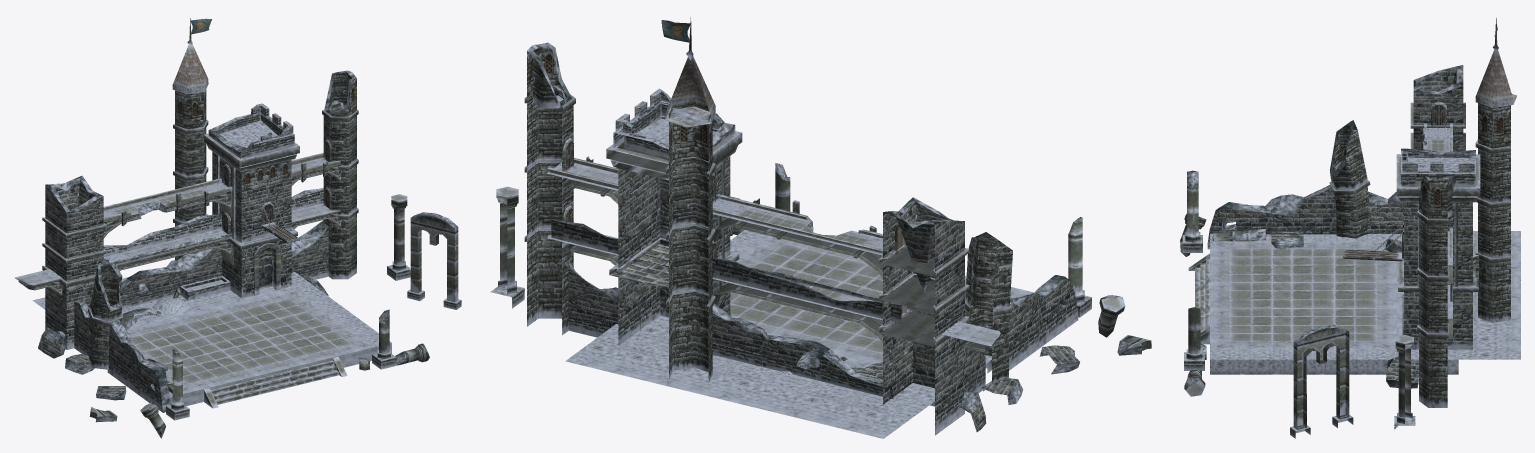
The model's file is SC_bingfengyiji_10.FBX.
The picture shows the model from 3 angles, left to right: view 1: azimuth 30°, elevation 25°; view 2: azimuth 150°, elevation 25°; view 3: azimuth 270°, elevation 25°; orthographic projection. The views are drawn at different scales.
Visible parts, largest first — view 1: SC_bingfengyiji_10; view 2: SC_bingfengyiji_10; view 3: SC_bingfengyiji_10.
Boxes of the visible parts, box(x1,y1,x2,y2) form: SC_bingfengyiji_10: box(15, 18, 461, 438); SC_bingfengyiji_10: box(490, 17, 1151, 438); SC_bingfengyiji_10: box(1180, 18, 1520, 438).
Bounding box in the file's own units: 4324 × 3004 × 2768.
